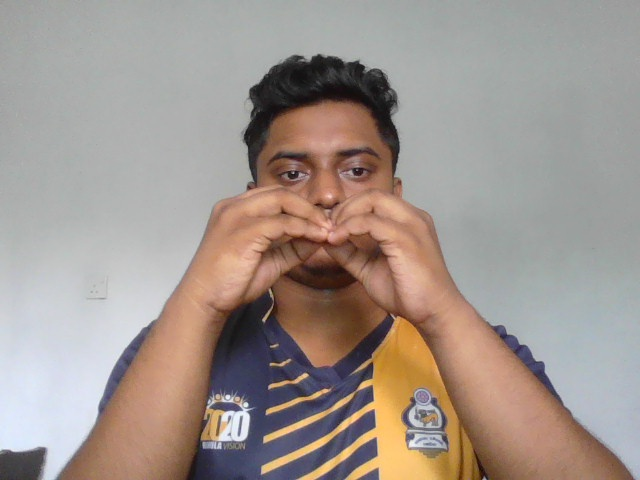More: (197, 181, 448, 336)
